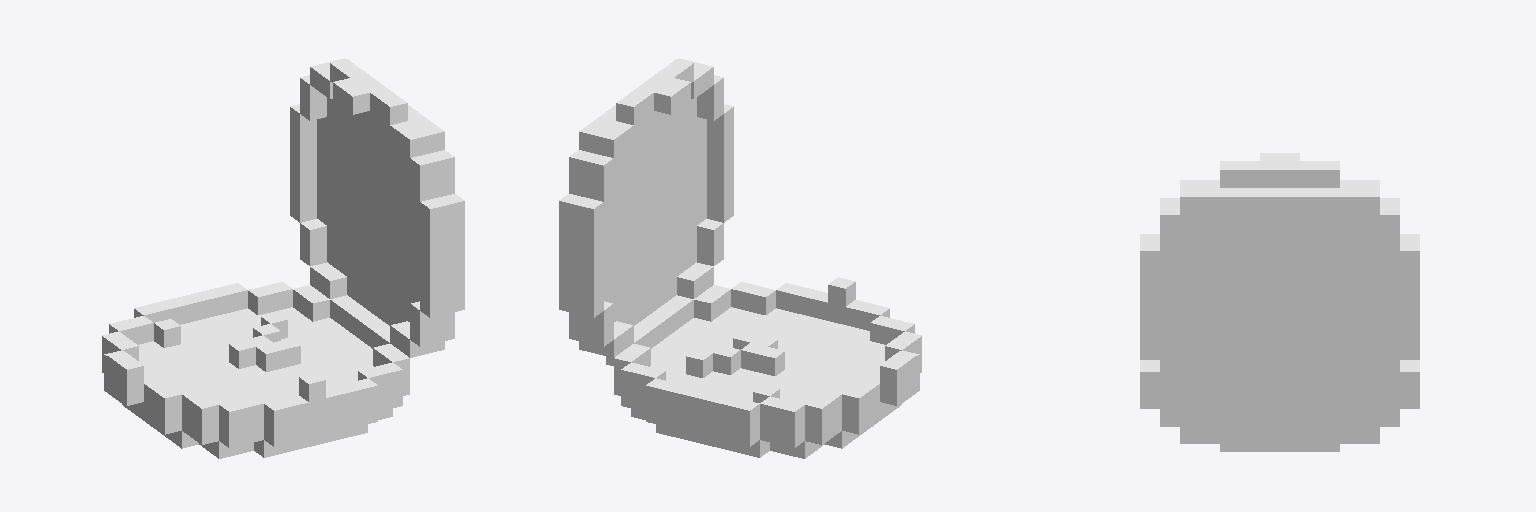
Rendered from boussole.vox.obj.
3 views of the same model, side by side, from view 1: azimuth 30°, elevation 25°; view 2: azimuth 150°, elevation 25°; view 3: azimuth 270°, elevation 25° (orthographic).
Visible parts, largest first — view 1: object 1; view 2: object 1; view 3: object 1.
Boxes of the visible parts, box(x1,y1,x2,y2) form: object 1: box(102, 58, 464, 458); object 1: box(559, 58, 921, 458); object 1: box(1140, 153, 1419, 451).
Size of the model in its own units: 1.6 by 1.6 by 1.4.